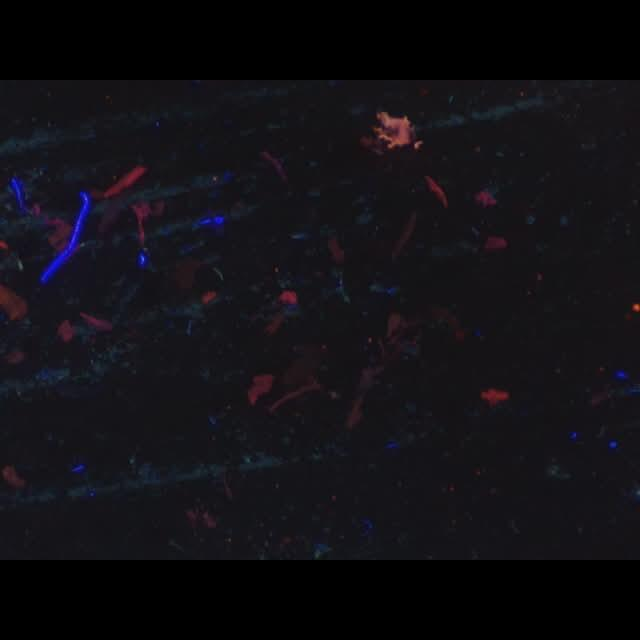Fragment: (372, 112, 414, 148)
